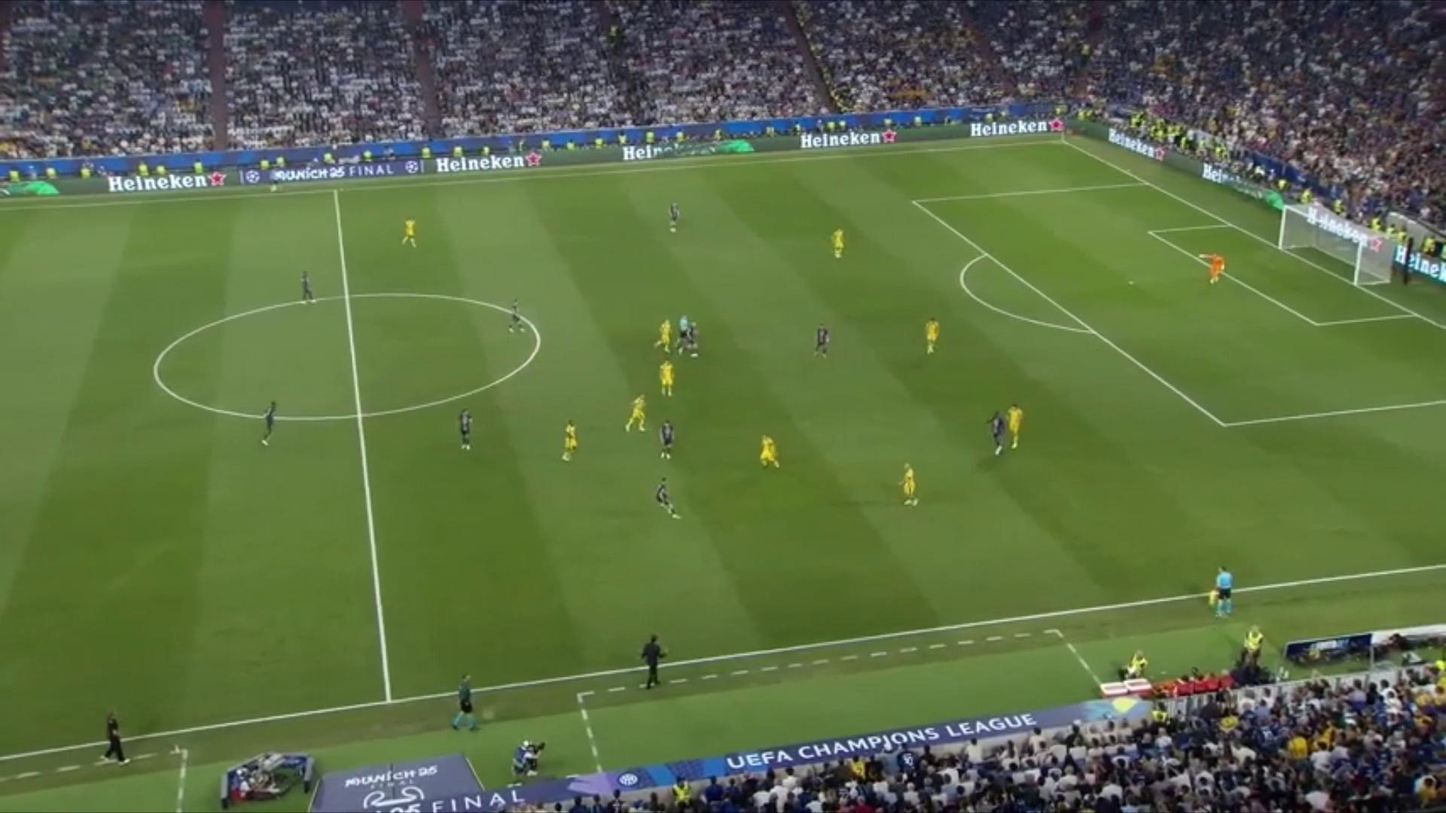player_A: (654, 479, 679, 520), (988, 410, 1007, 456), (658, 419, 675, 461), (261, 401, 276, 443), (507, 300, 526, 333), (458, 410, 472, 450), (300, 269, 315, 303), (686, 322, 700, 358), (815, 325, 831, 355), (668, 202, 679, 232)
player_B: (398, 214, 421, 253), (624, 395, 646, 434), (898, 464, 917, 508), (1005, 405, 1023, 449), (758, 434, 779, 470), (562, 420, 579, 461), (654, 319, 673, 355), (658, 360, 674, 397), (924, 317, 939, 355), (831, 228, 844, 259)
player_B_goal_keeper: (1197, 252, 1225, 284)
referee: (451, 672, 477, 730), (1211, 566, 1234, 619), (267, 169, 284, 196), (677, 315, 690, 337)
